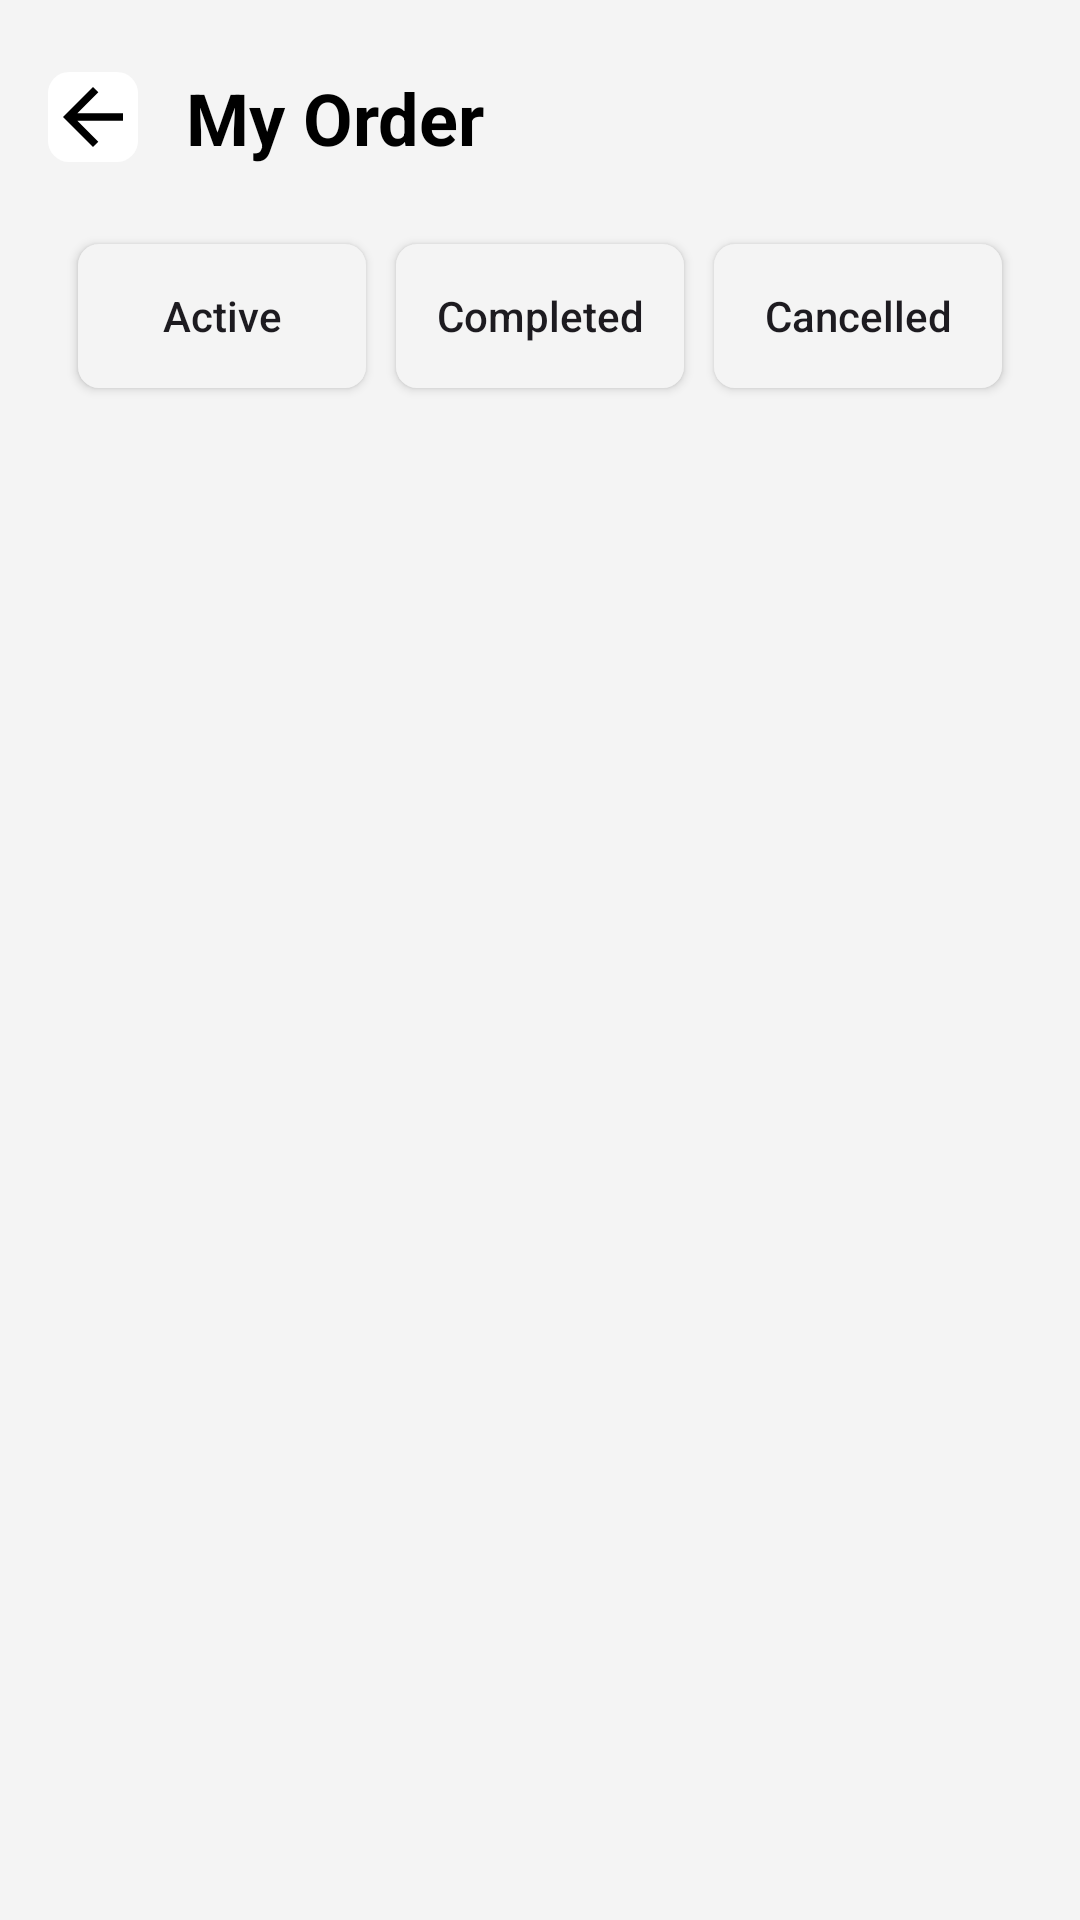

Named icons in this screenshot (1080x1920) and their bounding boxes, (x1, y1, x2, y2):
back: (48, 72, 138, 162)
